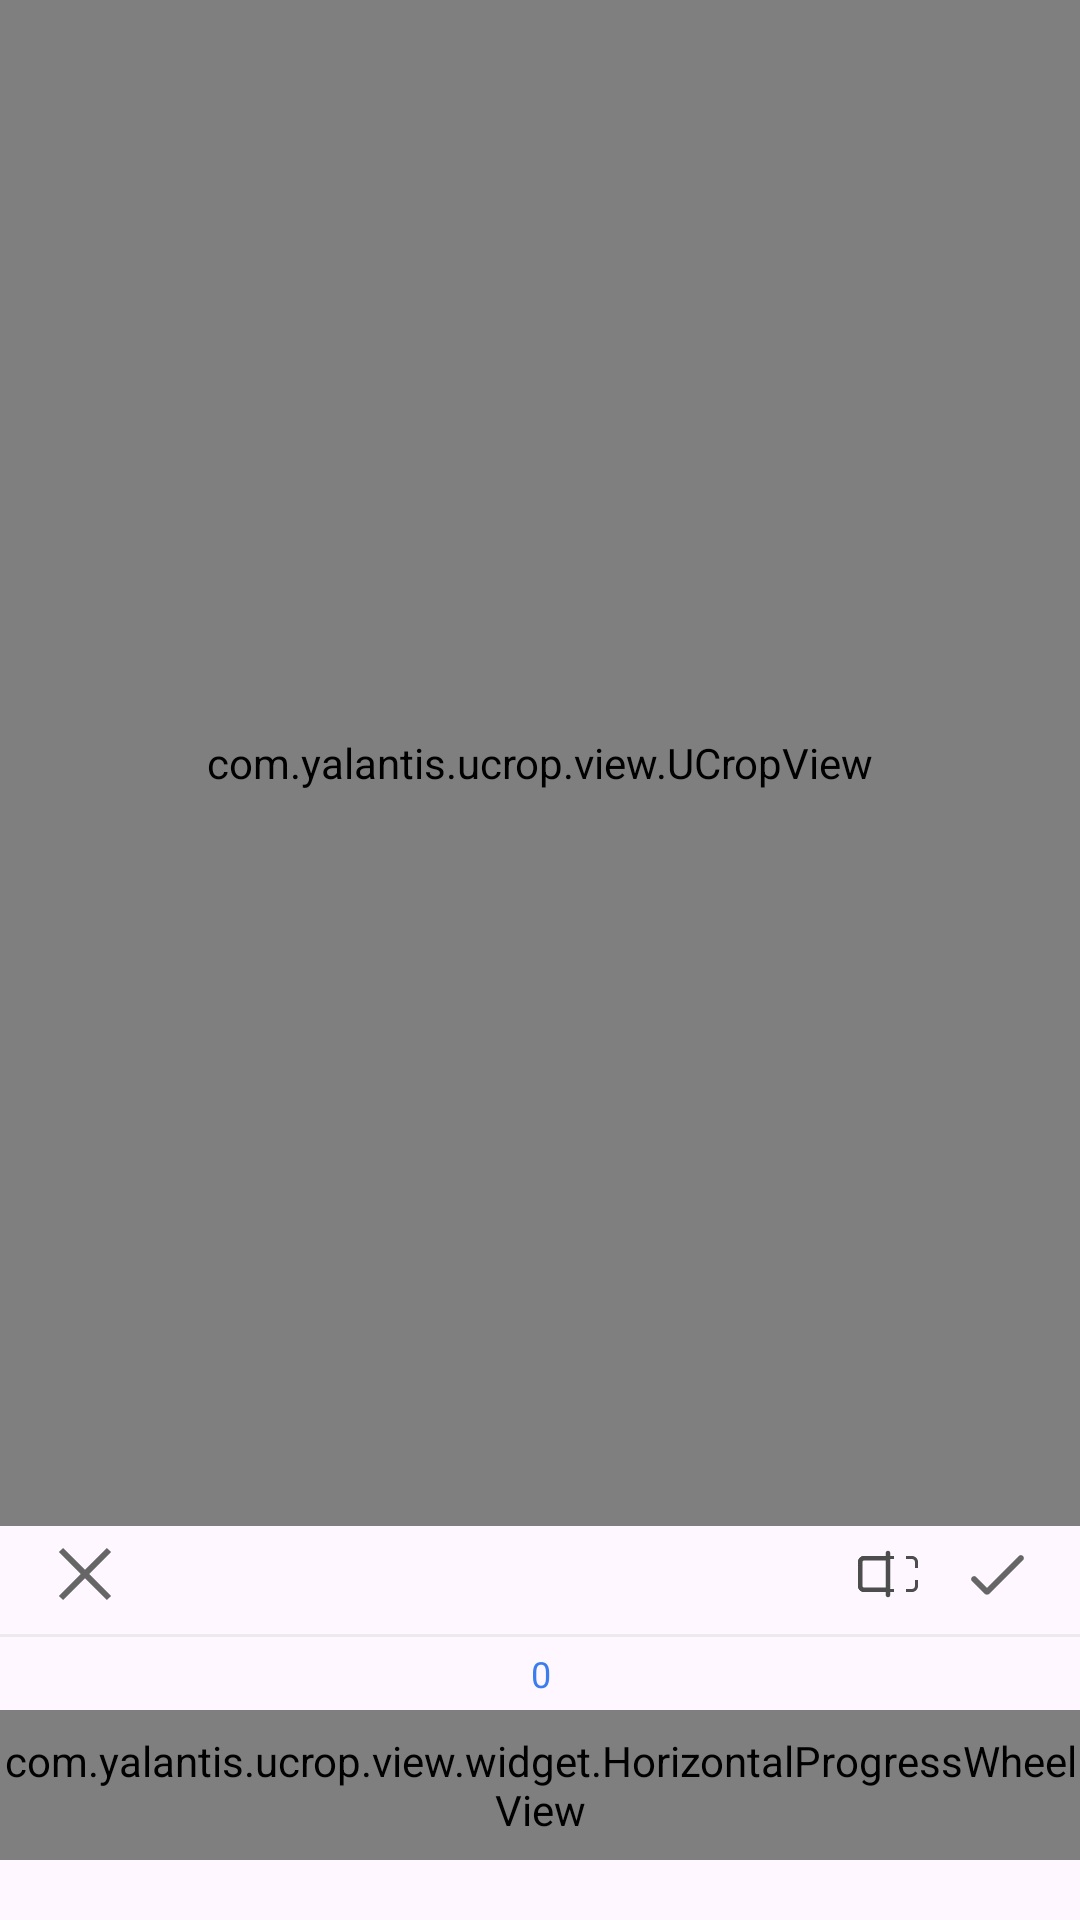

Where icons sit on this 1080x1920 app screen, as (x1, y1, x2, y2):
close: (59, 1548, 111, 1600)
tick done: (971, 1555, 1024, 1595)
